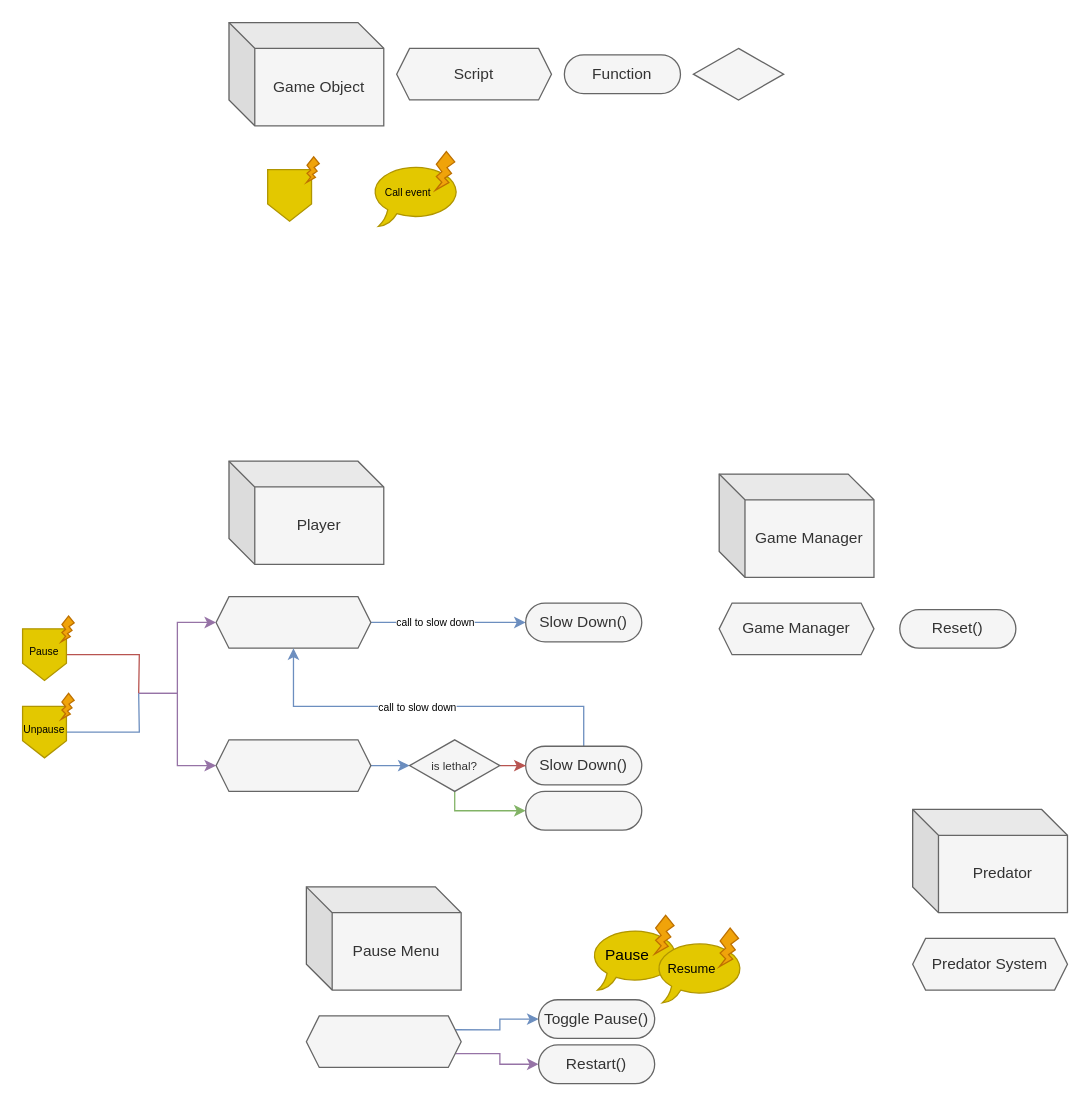
Image size: 1090x1107. Some labels were removed from this diagram. The box of each missing label's shape, as (x1, y1, x2, y2) in pixels:
condition: (692, 47, 784, 100)
Hear Event: (266, 168, 312, 221)
Movement: (215, 595, 371, 648)
Pause Menu Handler: (305, 1015, 461, 1067)
Player Logic Handler: (215, 739, 371, 791)
Respawn(): (524, 790, 642, 830)
